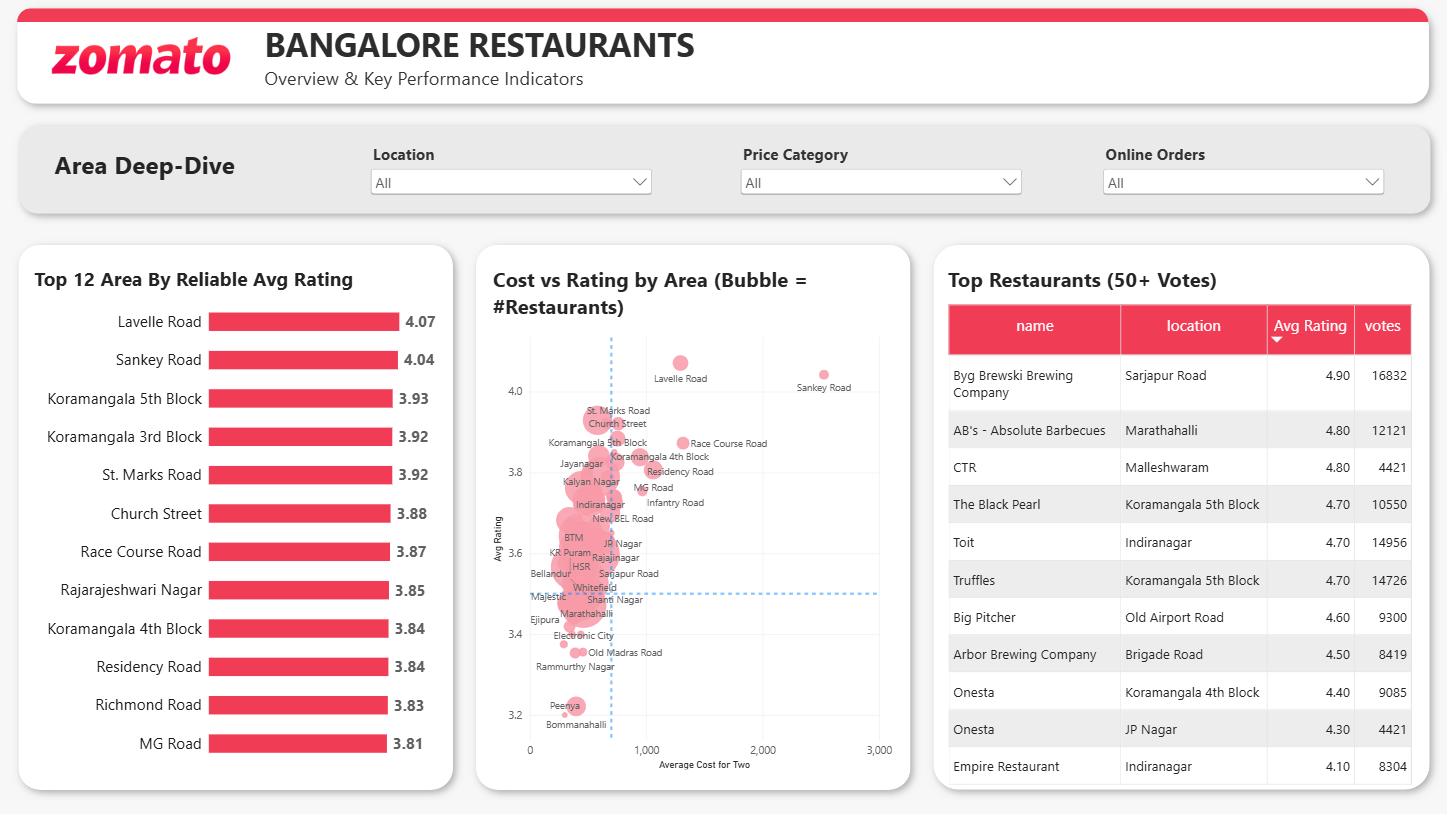

This screenshot's page, from the dashboard's own definition file:
{"tool":"powerbi","page":{"name":"Area Deep-Dive","canvas":[1920,1080],"ordinal":2},"visuals":[{"type":"group","id":"g1","title":"Group 1","box":[18.4,0,1881.6,155.1],"z":0},{"type":"shape","title":"Label shape","box":[21.6,154.9,1880.4,145.1],"z":1000},{"type":"textbox","box":[82.4,198,256.9,56.9],"z":2000},{"type":"slicer","title":"Label slicer 1","fields":{"Values":["restaurants.price_category"]},"box":[976.5,192.2,378.4,70.6],"z":3000},{"type":"slicer","title":"Label slicer2","fields":{"Values":["restaurants.online_order"]},"box":[1452.9,192.2,378.4,70.6],"z":4000},{"type":"slicer","title":"Label slicer 1","fields":{"Values":["restaurants.location"]},"box":[492.2,192.2,378.4,70.6],"z":5000},{"type":"shape","box":[19.6,309.8,600,745.1],"z":6000},{"type":"clusteredBarChart","title":"Top 12 Area By Reliable Avg Rating","fields":{"Category":["restaurants.location"],"Y":["restaurants.Avg Rating"]},"box":[39.2,337.3,558.8,690.2],"z":7000},{"type":"shape","title":"Header shape","box":[18.4,0,1881.6,155.1],"z":8000,"group":"g1"},{"type":"shape","box":[619.1,310.6,600,745.1],"z":8000},{"type":"textbox","title":"Header text box","box":[357.2,32.7,785.7,89.8],"z":9000,"group":"g1"},{"type":"scatterChart","title":"Cost vs Rating by Area (Bubble = #Restaurants)","fields":{"Category":["restaurants.location"],"Size":["restaurants.Total Restaurants"],"X":["restaurants.Avg Cost for Two"],"Y":["restaurants.Avg Rating"]},"box":[640.4,338.3,555.3,691.5],"z":9000},{"type":"image","title":"Header image","box":[34.7,10.2,322.4,134.7],"z":10000,"group":"g1"},{"type":"shape","box":[1219.1,310.6,680.9,744.7],"z":10000},{"type":"shape","title":"Header line","box":[32.8,14.5,1850.9,18.2],"z":11000,"group":"g1"},{"type":"tableEx","title":"Top Restaurants (50+ Votes)","fields":{"Values":["restaurants.name","restaurants.location","restaurants.Avg Rating","restaurants.votes"]},"box":[1238.3,338.3,642.6,717],"z":11000}]}

Visuals, with their boxes in screenshot pixels (x1, y1, x2, y2), scaled from the page's 1920x1080 canvas onto the 1447x814 screenshot:
"Group 1" group: x1=14, y1=0, x2=1432, y2=117
"Label shape" shape: x1=16, y1=117, x2=1433, y2=226
textbox: x1=62, y1=149, x2=256, y2=192
"Label slicer 1" slicer: x1=736, y1=145, x2=1021, y2=198
"Label slicer2" slicer: x1=1095, y1=145, x2=1380, y2=198
"Label slicer 1" slicer: x1=371, y1=145, x2=656, y2=198
shape: x1=15, y1=233, x2=467, y2=795
"Top 12 Area By Reliable Avg Rating" clusteredBarChart: x1=30, y1=254, x2=451, y2=774
"Header shape" shape: x1=14, y1=0, x2=1432, y2=117
shape: x1=467, y1=234, x2=919, y2=796
"Header text box" textbox: x1=269, y1=25, x2=861, y2=92
"Cost vs Rating by Area (Bubble = #Restaurants)" scatterChart: x1=483, y1=255, x2=901, y2=776
"Header image" image: x1=26, y1=8, x2=269, y2=109
shape: x1=919, y1=234, x2=1432, y2=795
"Header line" shape: x1=25, y1=11, x2=1420, y2=25
"Top Restaurants (50+ Votes)" tableEx: x1=933, y1=255, x2=1418, y2=795
